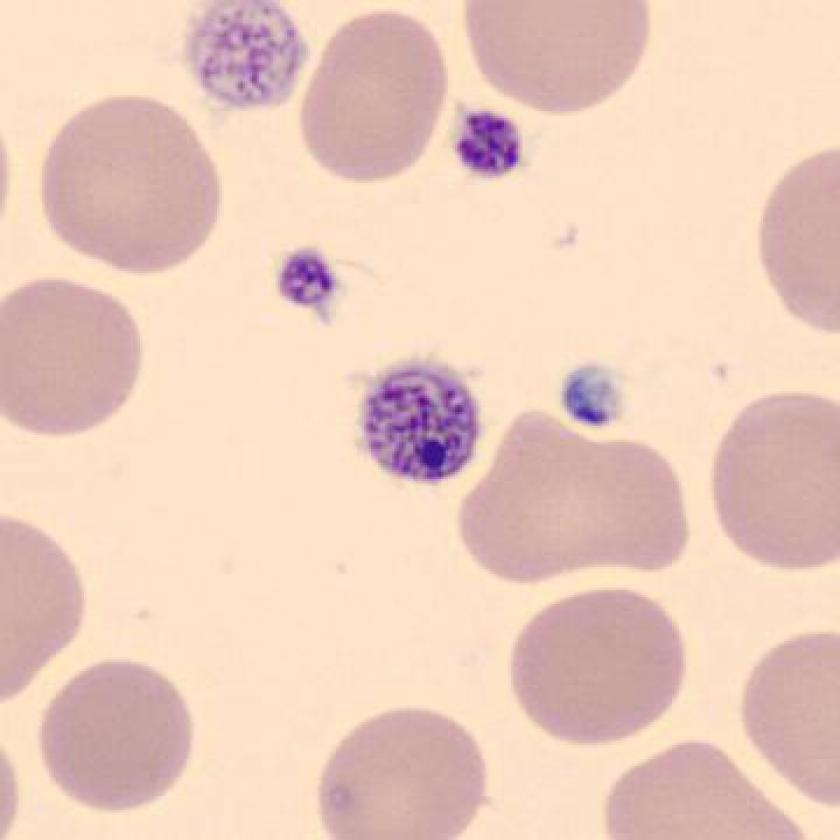platelets: (346, 344, 496, 496), (173, 1, 318, 128), (442, 98, 535, 193), (550, 350, 641, 443), (267, 240, 353, 328)
